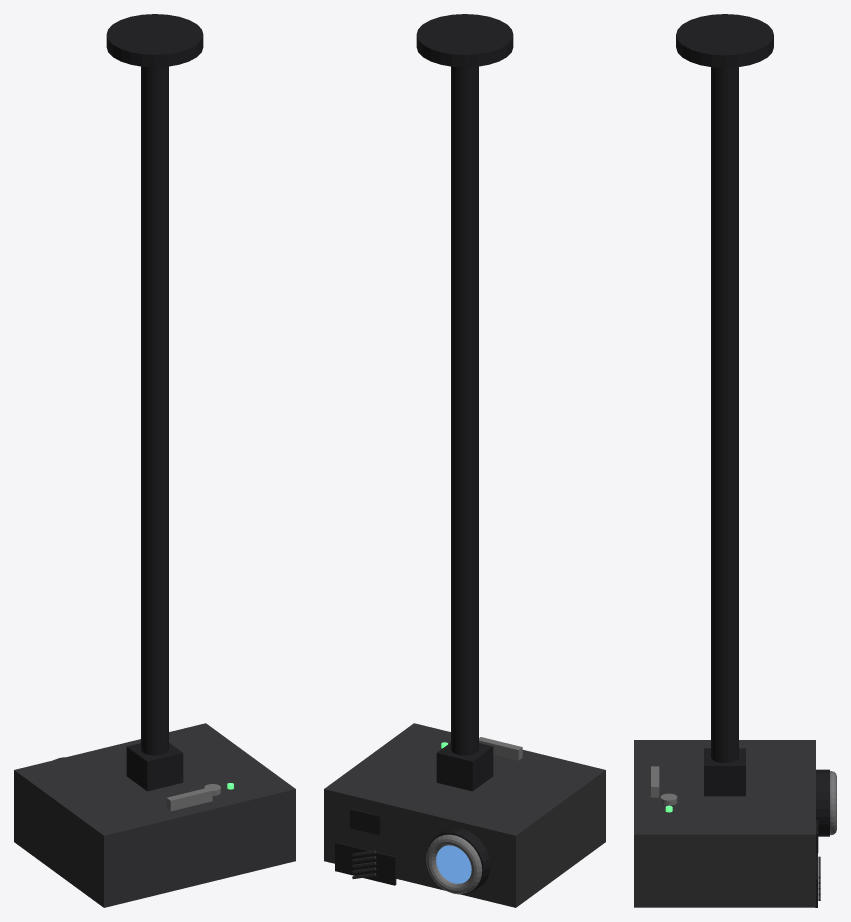
File: Projector_BodyModel.glb
3 views of the same model, side by side, from view 1: azimuth 30°, elevation 25°; view 2: azimuth 150°, elevation 25°; view 3: azimuth 270°, elevation 25° (orthographic).
Visible parts, largest first — view 1: Projector_Body, Projector_Pole, Projector_MountPlate, Projector_Yoke, Projector_FocusSlider; view 2: Projector_Body, Projector_Pole, Projector_MountPlate, Projector_Yoke, Projector_LensRing, Projector_VentPanel, Projector_LensGlass, Projector_LensBarrel, Projector_IRWindow; view 3: Projector_Body, Projector_Pole, Projector_MountPlate, Projector_Yoke, Projector_LensBarrel, Projector_LensRing.
Boxes of the visible parts, bbox=[...] form: Projector_Body: bbox=[14, 723, 295, 907]; Projector_Pole: bbox=[141, 66, 168, 755]; Projector_MountPlate: bbox=[106, 14, 203, 67]; Projector_Yoke: bbox=[126, 742, 183, 791]; Projector_FocusSlider: bbox=[166, 787, 212, 811]; Projector_Body: bbox=[324, 723, 605, 907]; Projector_Pole: bbox=[451, 66, 478, 755]; Projector_MountPlate: bbox=[416, 14, 513, 67]; Projector_Yoke: bbox=[436, 742, 493, 791]; Projector_LensRing: bbox=[426, 834, 482, 894]; Projector_VentPanel: bbox=[335, 842, 396, 885]; Projector_LensGlass: bbox=[436, 845, 471, 883]; Projector_LensBarrel: bbox=[427, 828, 490, 894]; Projector_IRWindow: bbox=[350, 808, 380, 835]; Projector_Body: bbox=[634, 740, 815, 907]; Projector_Pole: bbox=[711, 67, 738, 762]; Projector_MountPlate: bbox=[676, 14, 773, 67]; Projector_Yoke: bbox=[704, 748, 745, 796]; Projector_LensBarrel: bbox=[816, 769, 829, 836]; Projector_LensRing: bbox=[830, 771, 836, 835].
Size of the model in its own units: 0.32 by 1.32 by 0.29.
